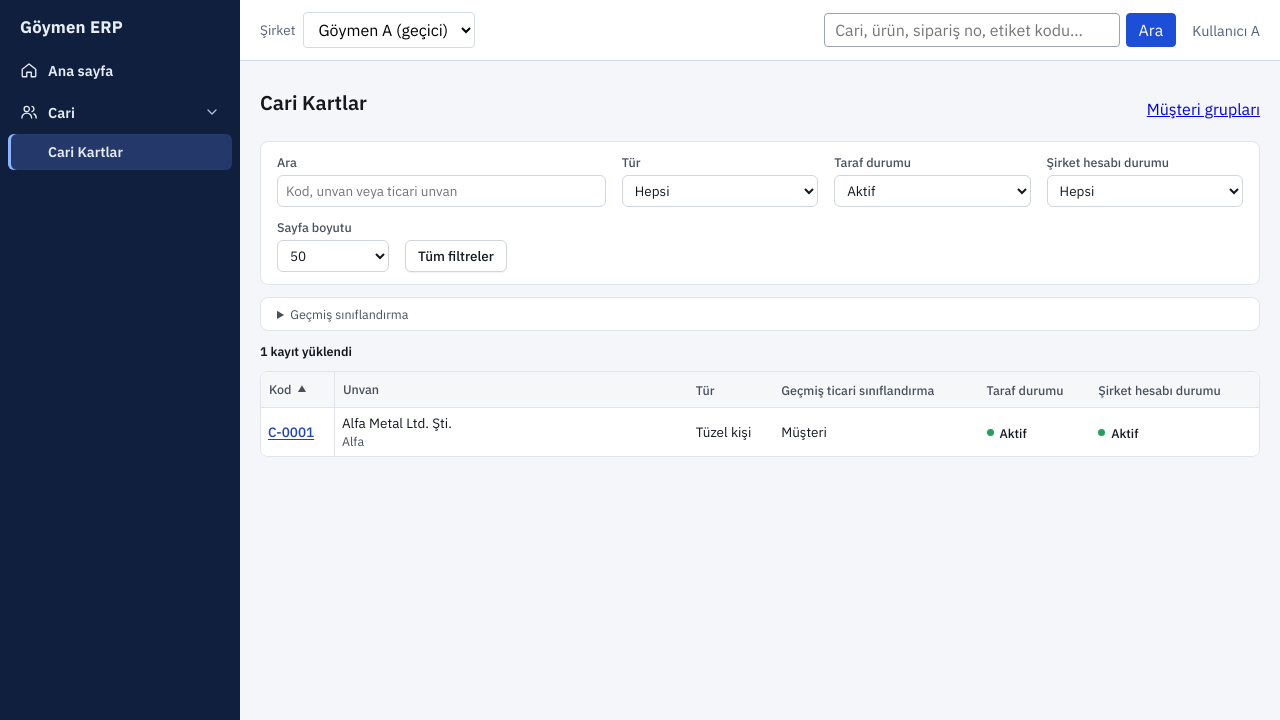
Test: C-01 context fence (Codex/ChatGPT #147 P1-2) › a company switch never leaves company A rows on screen under company B
expect the row "C-0001" is shown: met, box [261,408,1259,456]
Select "Göymen B (geçici)" in the dropdown labelled "Şirket" at [390, 30], box [304,12,476,48]
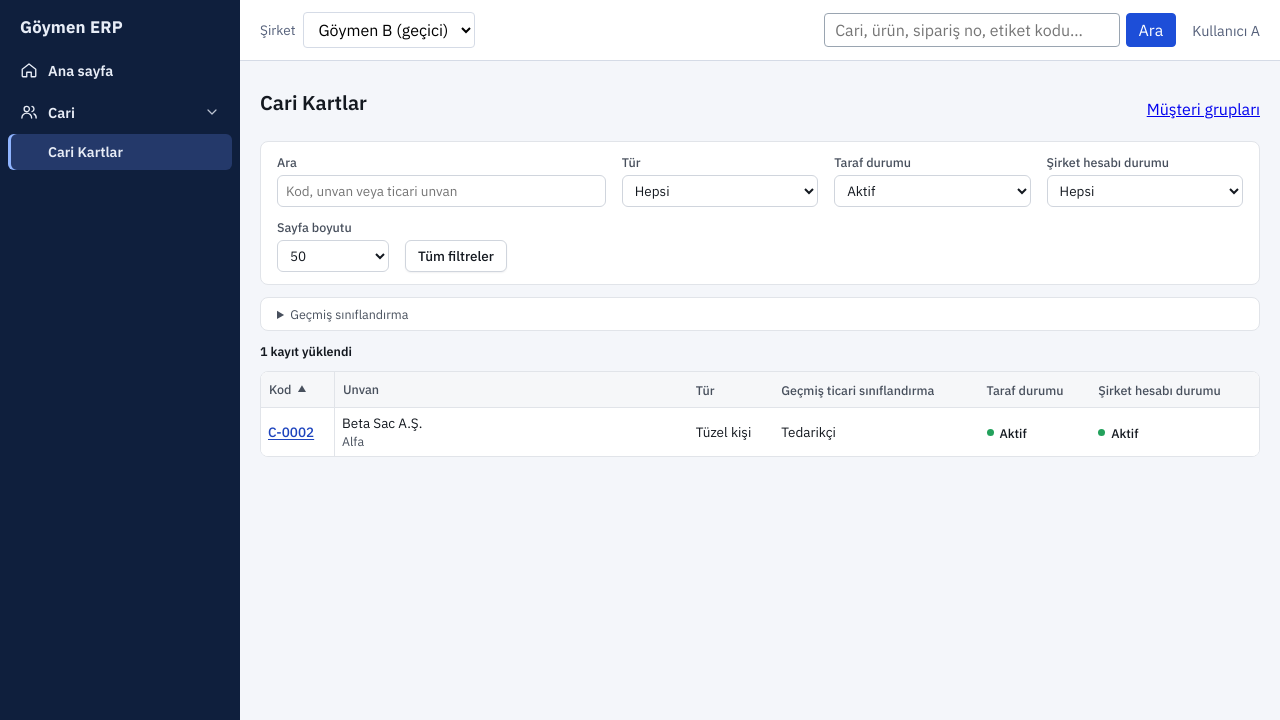
expect the text "Alfa Metal" is gone: met
expect the link "C-0001" is gone: met
expect the row "C-0002 Beta Sac A.Ş. Alfa Tüzel kişi Tedarikçi Aktif Aktif" is shown: met, box [261,408,1259,456]
